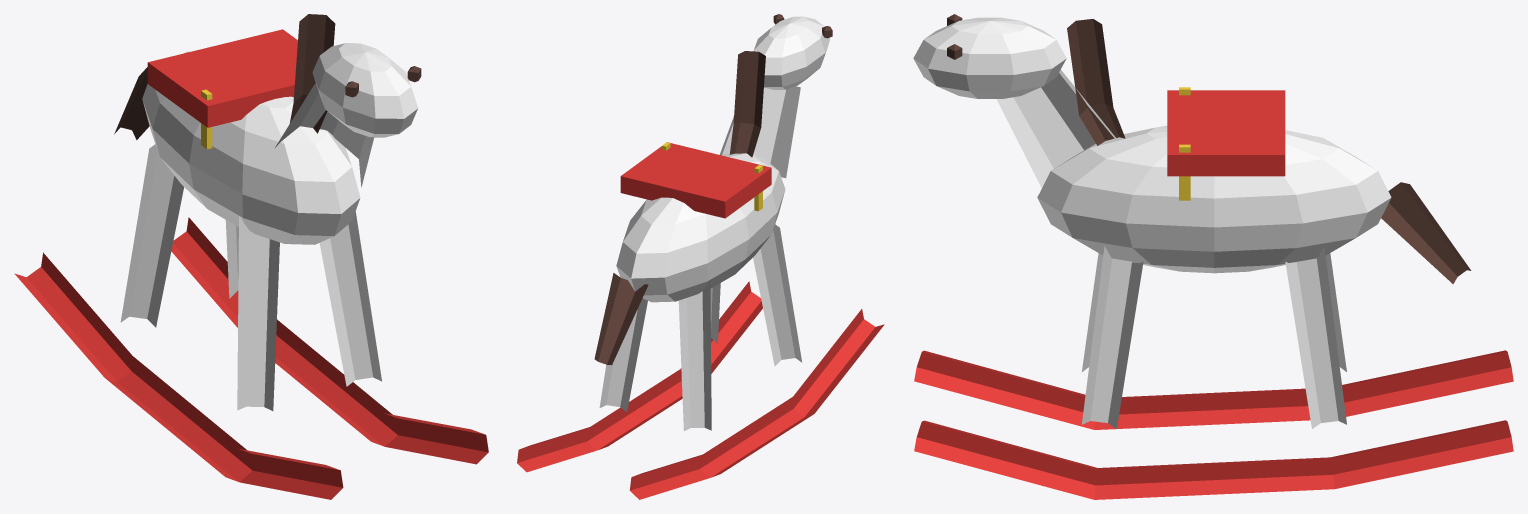
The model's file is gunghast.glb.
The picture shows the model from 3 angles, left to right: view 1: azimuth 30°, elevation 25°; view 2: azimuth 150°, elevation 25°; view 3: azimuth 270°, elevation 25°; orthographic projection. The views are drawn at different scales.
Visible parts, largest first — view 1: gunghast; view 2: gunghast; view 3: gunghast.
Part boxes in pixels (left/top/right/bottom): gunghast: left=14, top=14, right=488, bottom=499; gunghast: left=517, top=14, right=884, bottom=499; gunghast: left=913, top=14, right=1513, bottom=499.
Size of the model in its own units: 0.3319 by 0.8299 by 1.02.
